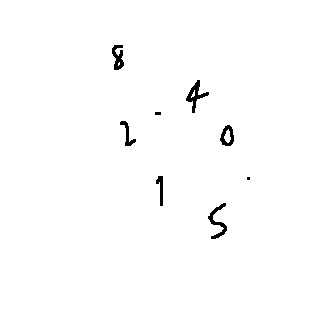.: (242, 167, 259, 196), (151, 106, 163, 118)
0: (208, 124, 245, 148)
1: (149, 167, 177, 221)
2: (117, 118, 139, 149)
4: (178, 76, 210, 120)
5: (203, 202, 243, 254)
8: (105, 42, 132, 81)
